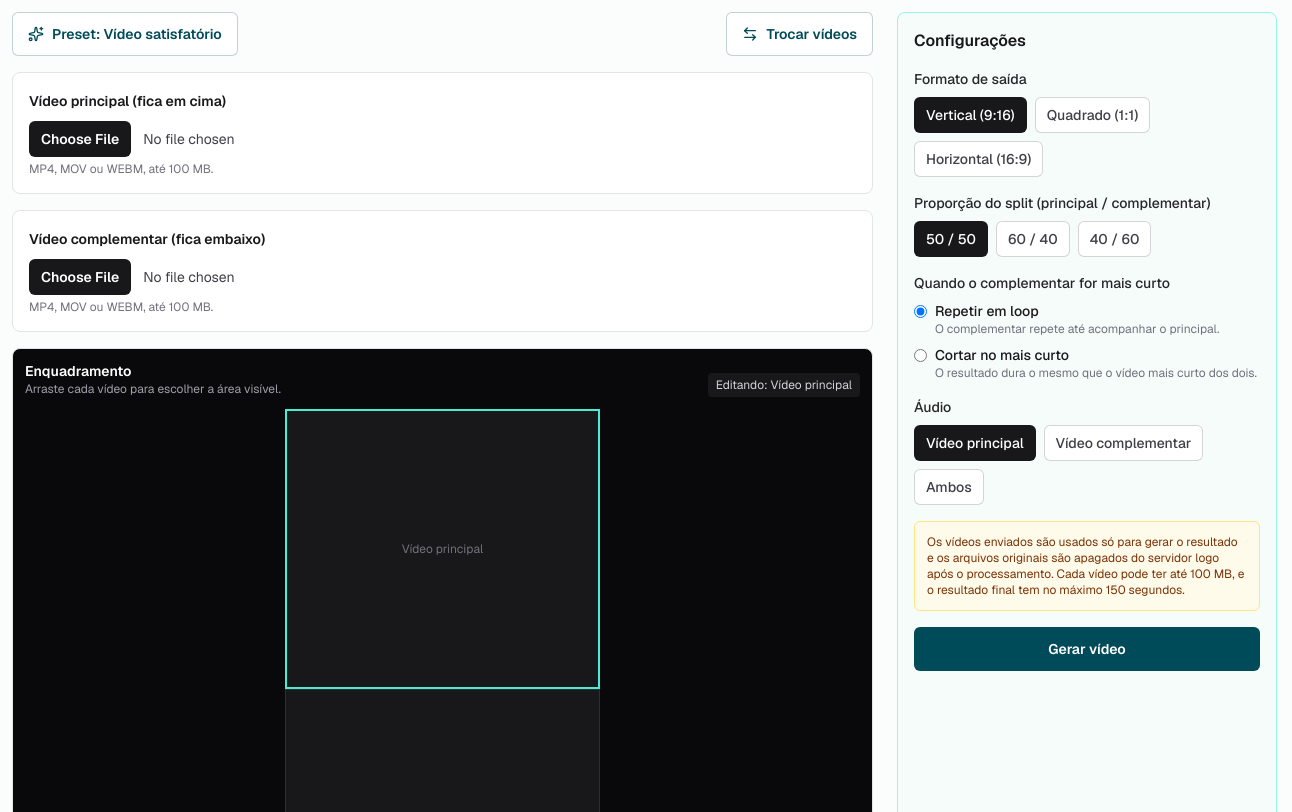
Test case: VideoSplitScreenEditor — preset Vídeo satisfatório › reafirma formato vertical, split 50/50, loop e áudio do principal, mesmo partindo de outras escolhas
Click the button "Quadrado (1:1)". click: click(1092, 115)
box: [1035,97,1150,133]
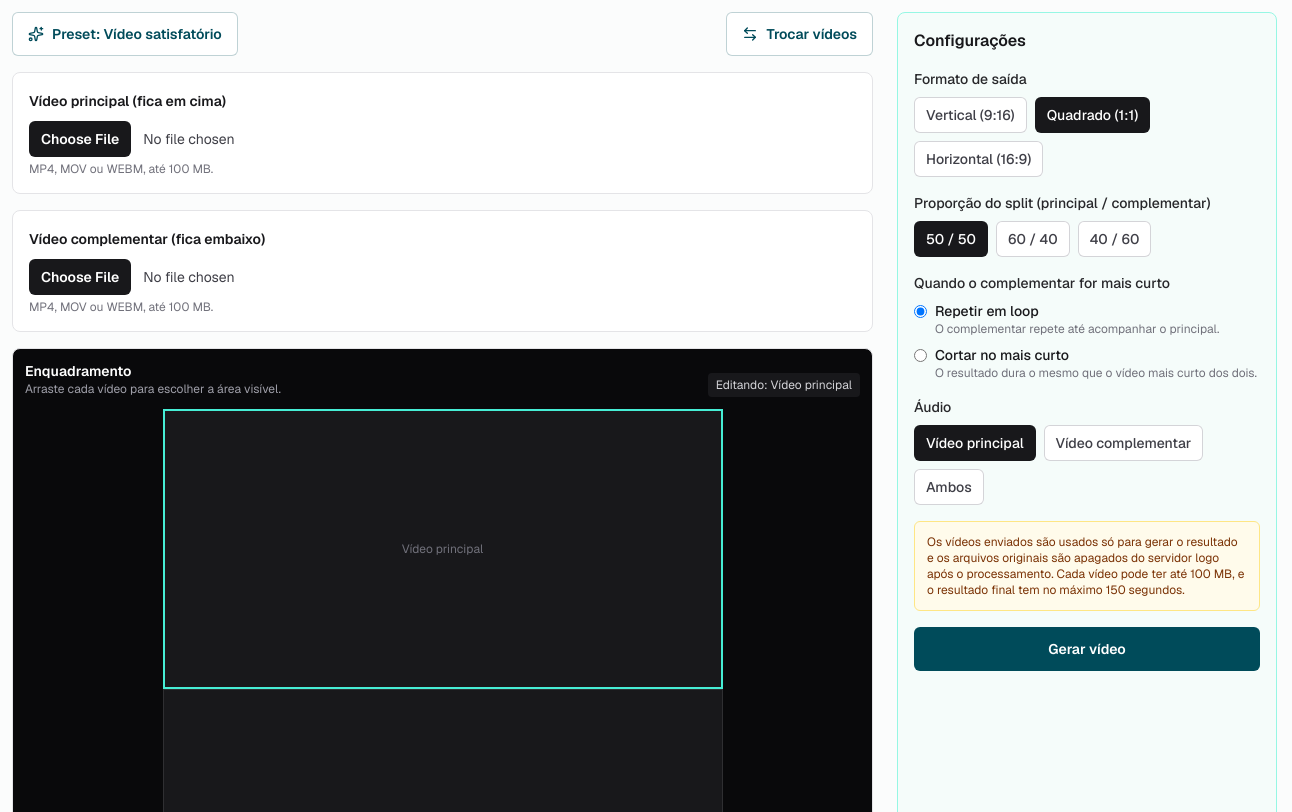
Click the button "60 / 40". click: click(1033, 239)
box: [996,221,1070,257]
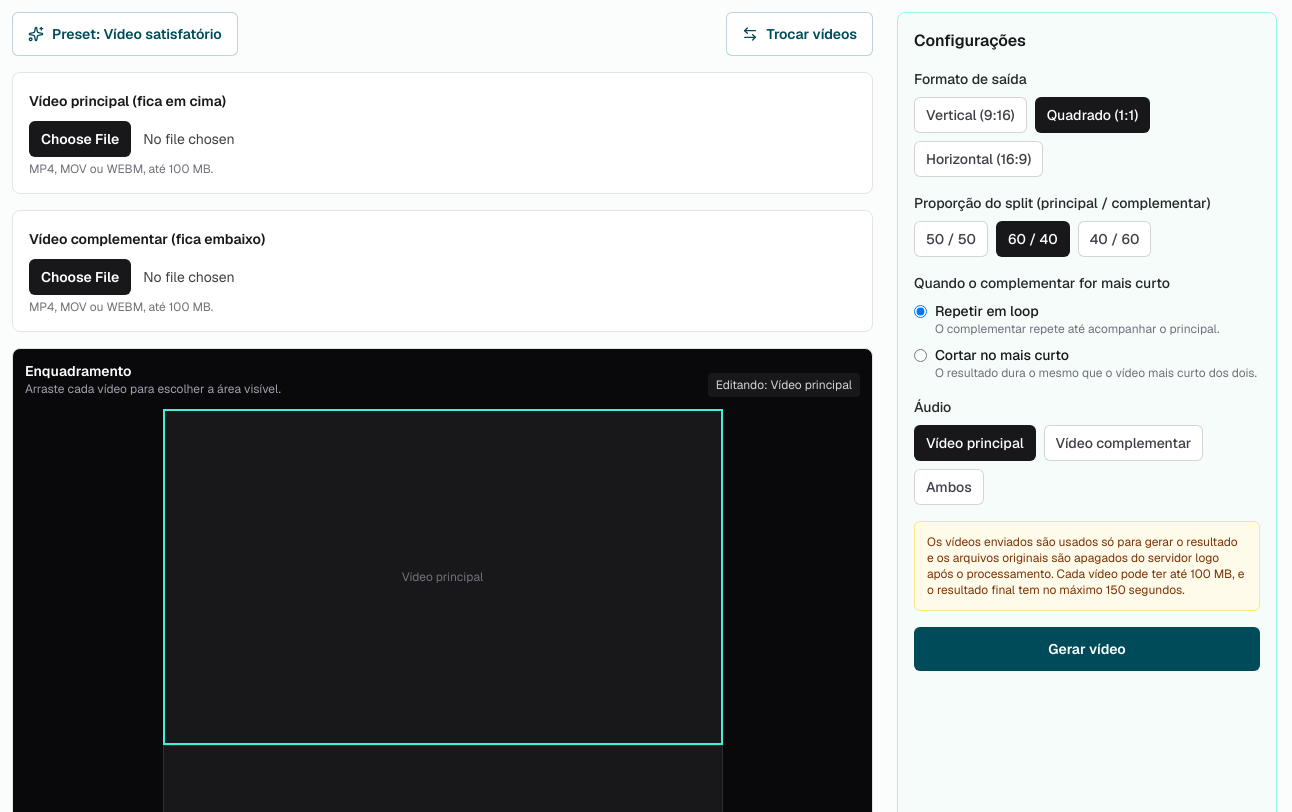
Click the button "Vídeo complementar" below "Áudio". click: click(1124, 443)
box: [1044,425,1203,461]
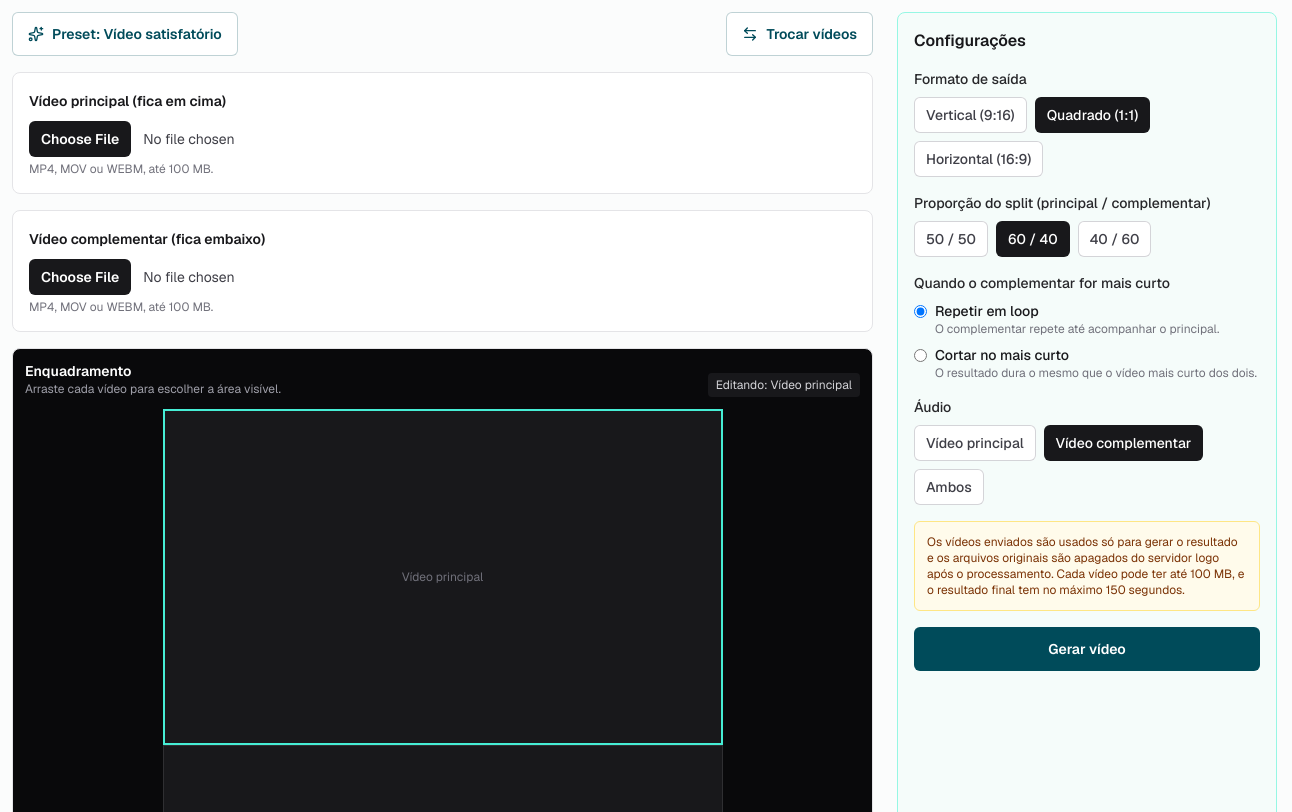
Click the radio button labelled "Cortar no mais curto". click: click(920, 356)
box: [914,349,927,362]
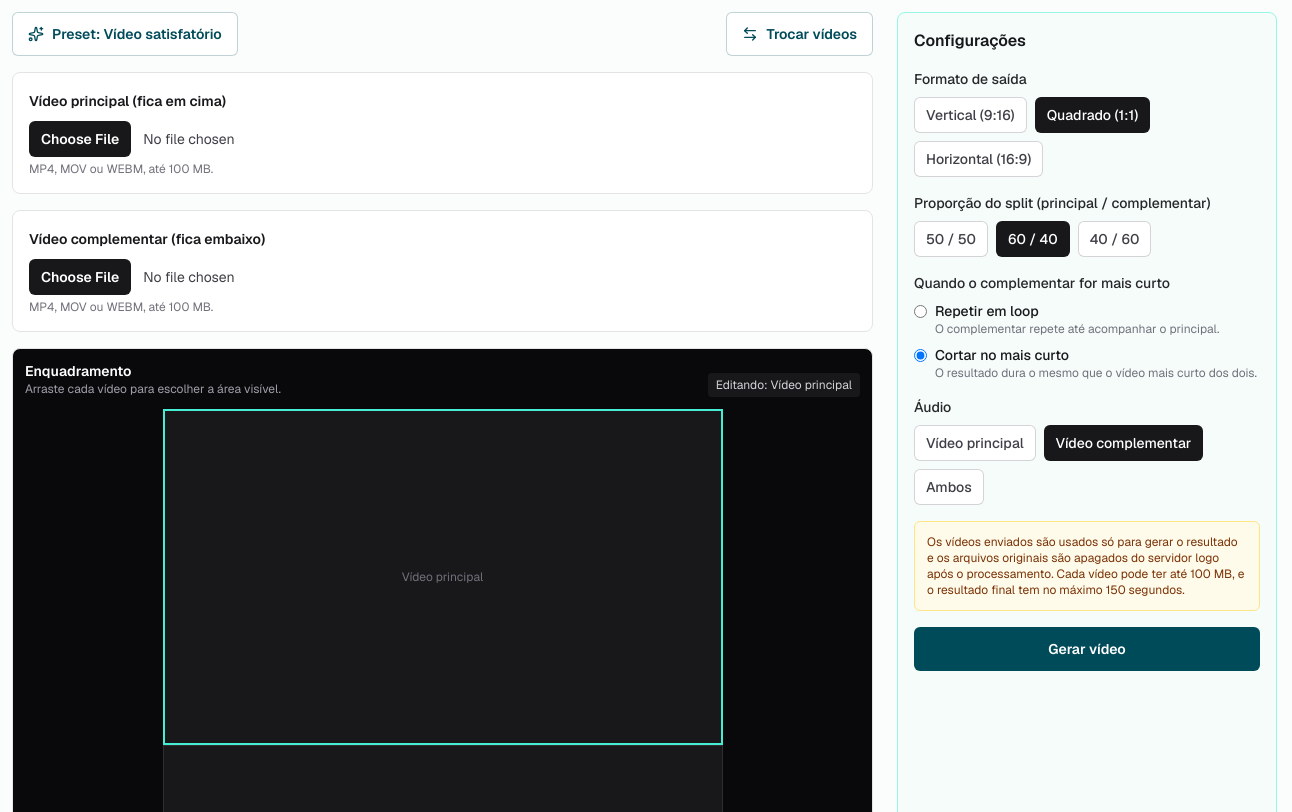
Click the button "Preset: Vídeo satisfatório". click: click(125, 34)
box: [12,12,238,56]
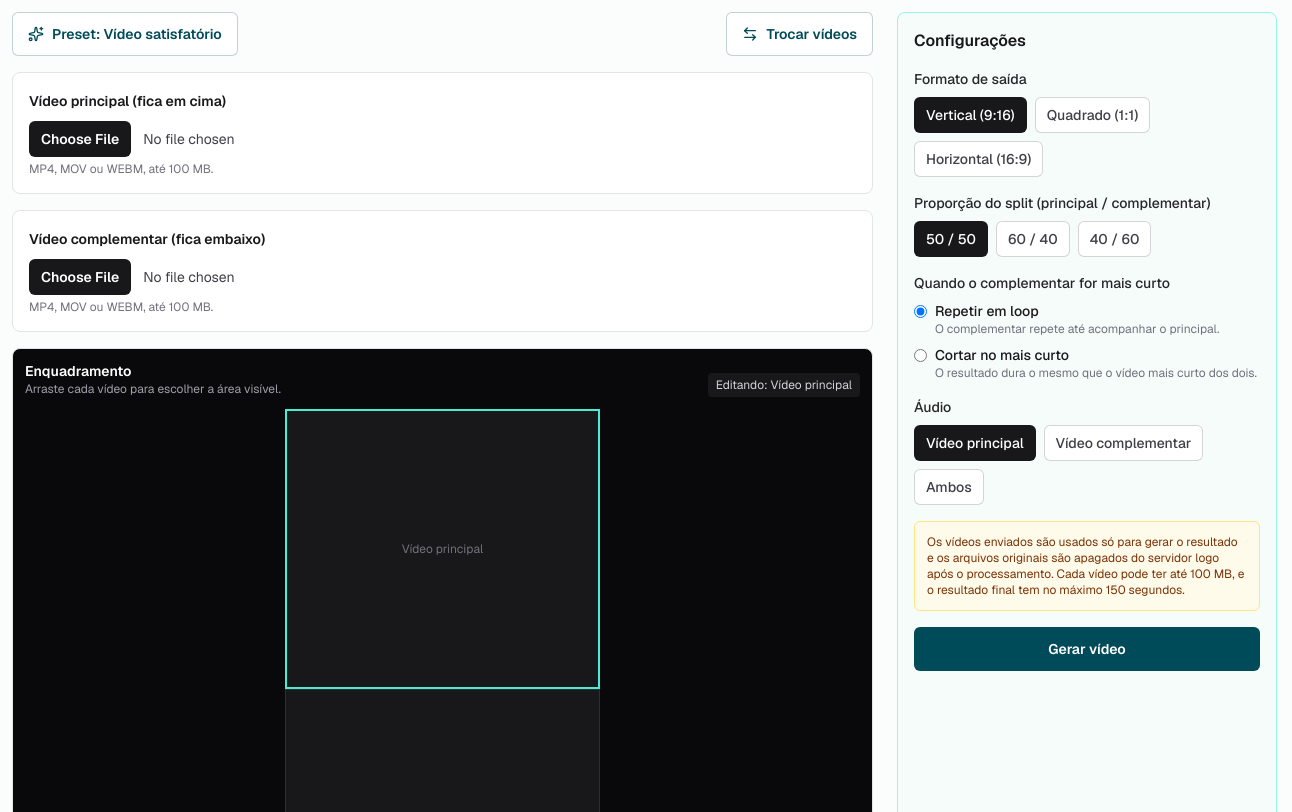
Expected: the radio button labelled "Repetir em loop" is checked, [914,305,927,318]
